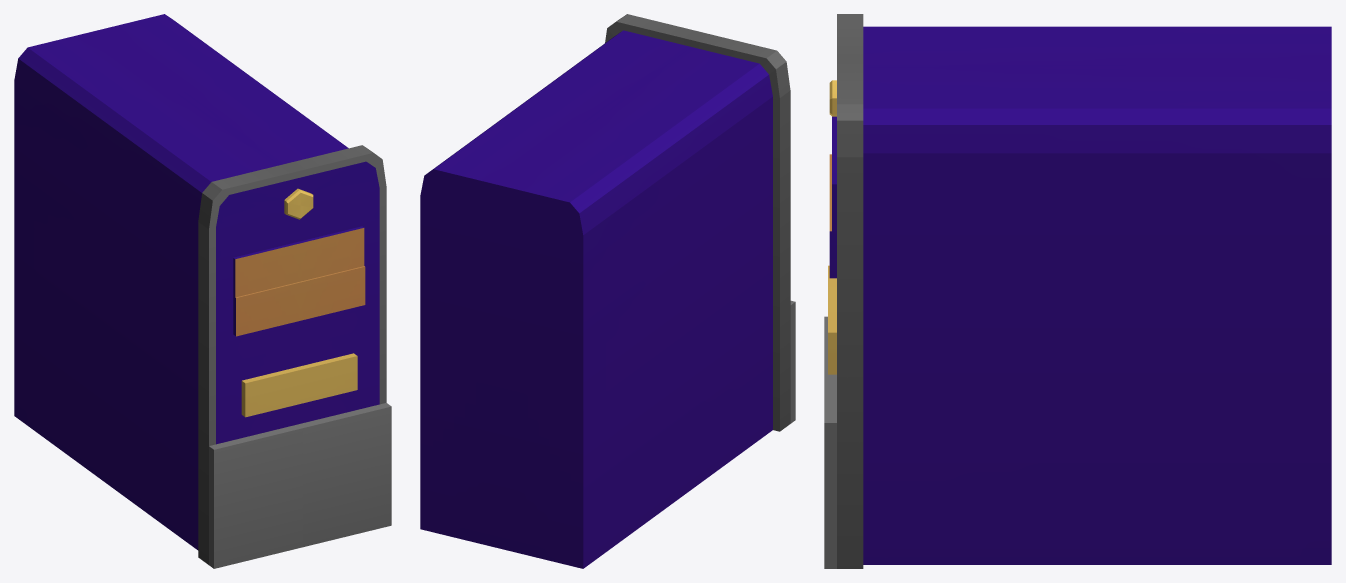
Rendered from sp_computer_tower_a.fbx.
3 renders of one model, left to right at view 1: azimuth 30°, elevation 25°; view 2: azimuth 150°, elevation 25°; view 3: azimuth 270°, elevation 25°, orthographic. The views are drawn at different scales.
Parts seen in each view (by area): view 1: sp_computer_tower_a; view 2: sp_computer_tower_a; view 3: sp_computer_tower_a.
Part boxes in pixels (<box>): sp_computer_tower_a: <box>14,14,391,568</box>; sp_computer_tower_a: <box>420,14,795,568</box>; sp_computer_tower_a: <box>824,14,1331,568</box>.
Bounding box in the file's own units: 44.76 × 89.63 × 90.19.
